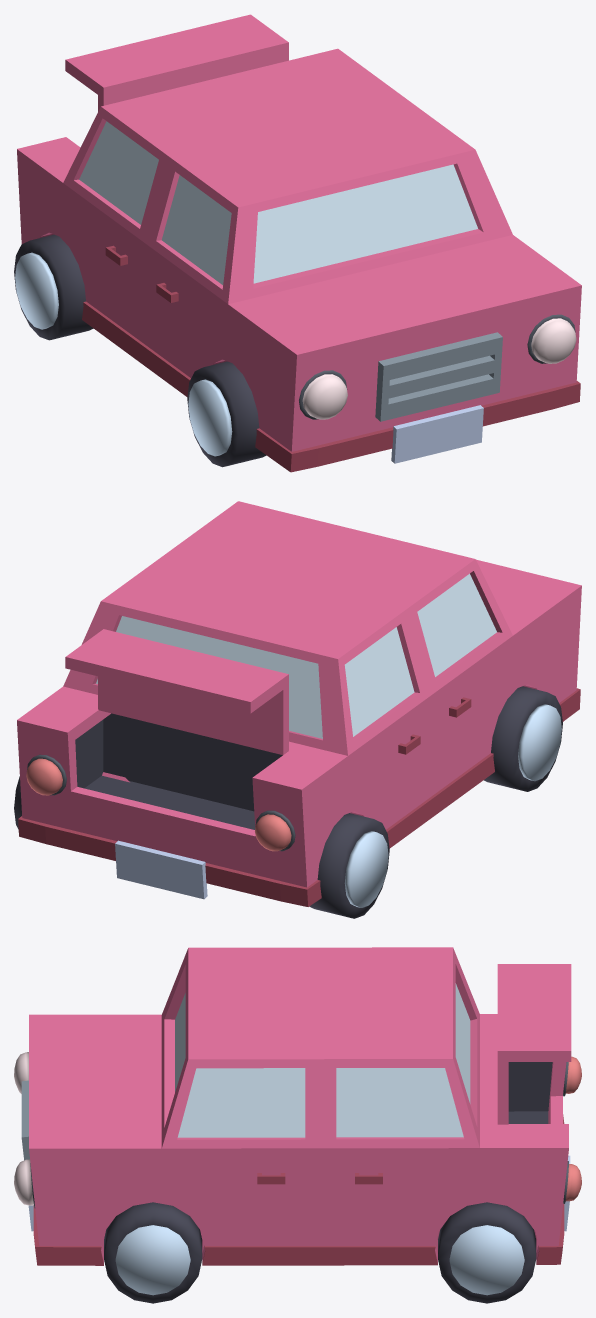
File: pink car truck.fbx
3 views of the same model, one above another, from view 1: azimuth 30°, elevation 25°; view 2: azimuth 150°, elevation 25°; view 3: azimuth 270°, elevation 25° (orthographic). The views are drawn at different scales.
Parts seen in each view (by area): view 1: car, wheels, bagage, vent, front lights, plate; view 2: car, bagage, wheels, plate.001, back lights, door handle; view 3: car, wheels, bagage, front lights, back lights, vent, door handle.
Part boxes in pixels (x1=…): car: x1=17, y1=48, x2=581, y2=472; wheels: x1=14, y1=234, x2=266, y2=467; bagage: x1=65, y1=14, x2=288, y2=111; vent: x1=375, y1=332, x2=502, y2=421; front lights: x1=299, y1=314, x2=576, y2=419; plate: x1=391, y1=405, x2=483, y2=463; car: x1=17, y1=501, x2=581, y2=906; bagage: x1=65, y1=629, x2=288, y2=754; wheels: x1=14, y1=686, x2=562, y2=918; plate.001: x1=115, y1=840, x2=207, y2=899; back lights: x1=26, y1=754, x2=295, y2=851; door handle: x1=398, y1=697, x2=471, y2=754; car: x1=29, y1=947, x2=568, y2=1265; wheels: x1=104, y1=1202, x2=536, y2=1303; bagage: x1=497, y1=964, x2=571, y2=1124; front lights: x1=14, y1=1052, x2=35, y2=1208; back lights: x1=563, y1=1056, x2=581, y2=1203; vent: x1=21, y1=1080, x2=29, y2=1160; door handle: x1=257, y1=1173, x2=382, y2=1184.
Bounding box in the file's own units: 235 × 156 × 358.
